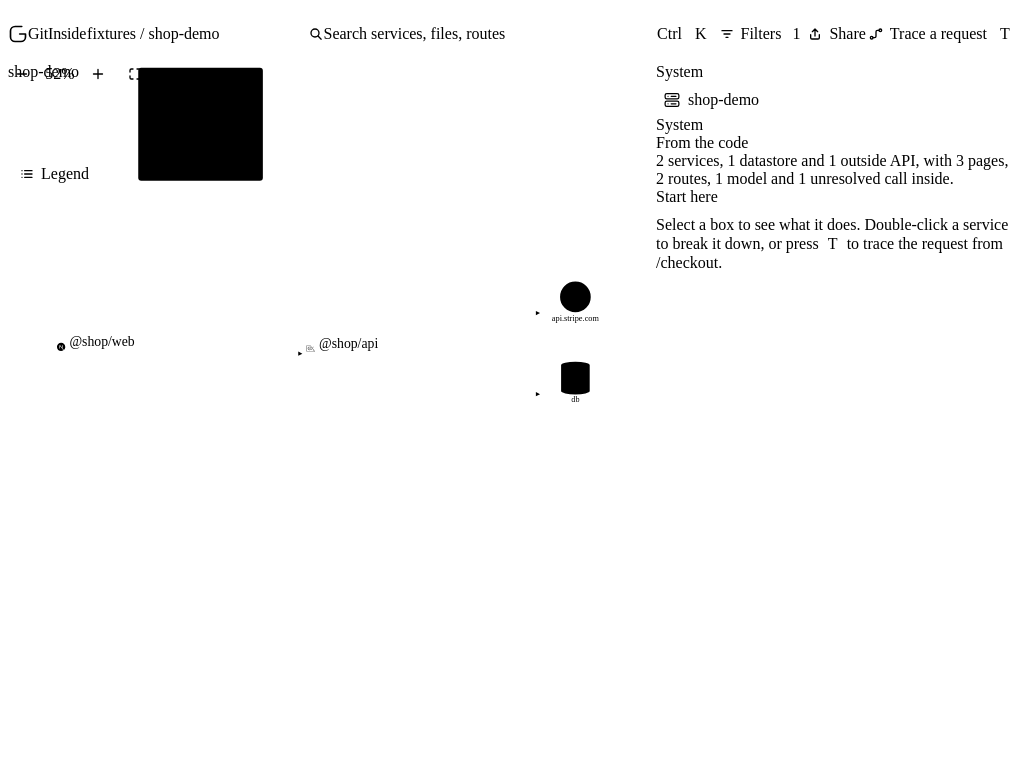
it: Explorer › selects on click, highlights the node's edges, and clears on the canvas
Click the list item with class "gi-node" showing "@shop/api" at [342, 345], box [306, 336, 378, 354]
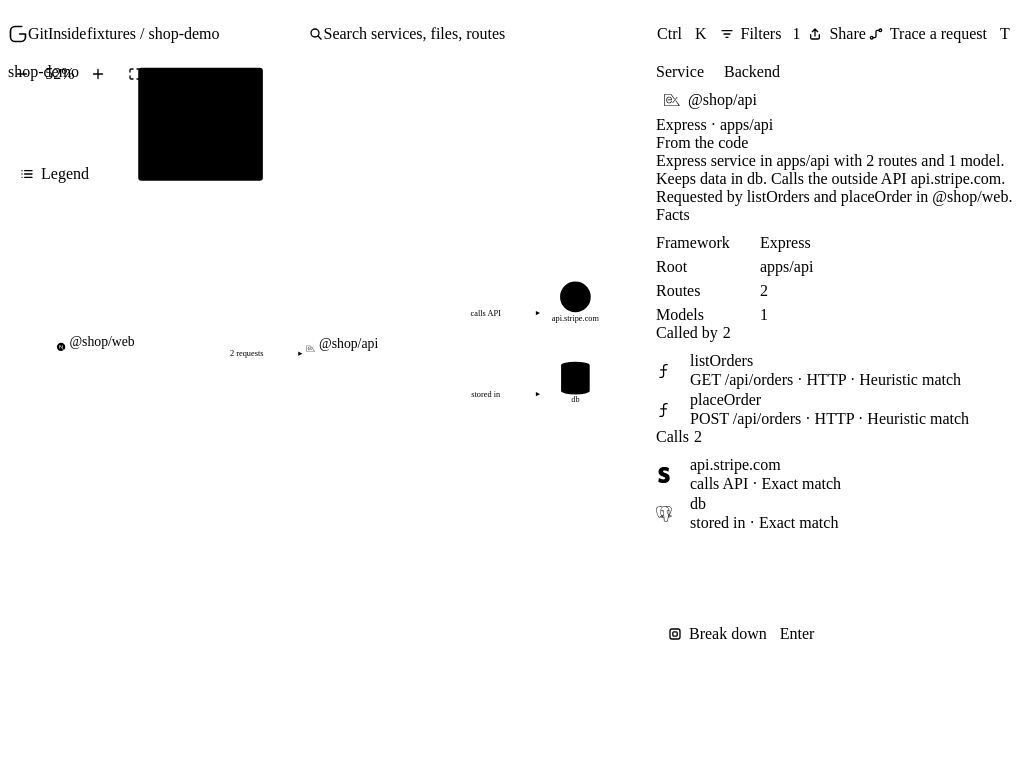
Expected: the heading "@shop/api" is shown, [688, 91, 757, 109]
Expected: the text "Express" is shown, [760, 234, 811, 251]
Click the element named "Diagram" at [332, 613], box [8, 60, 656, 648]
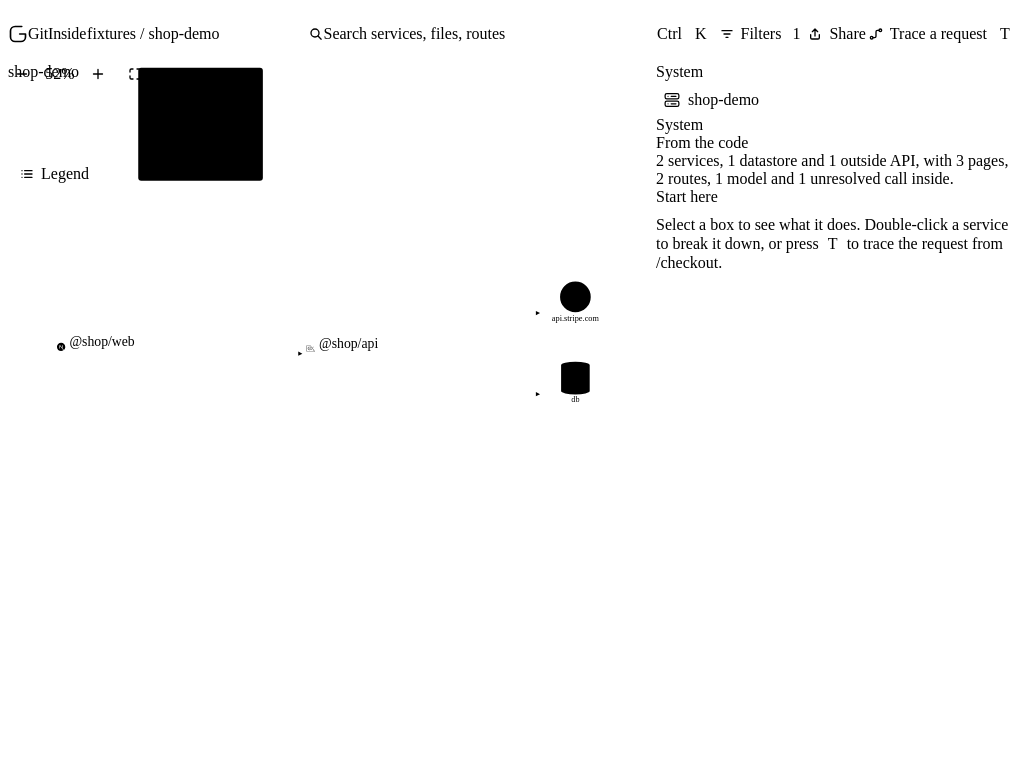
Expected: the heading "shop-demo" is shown, [688, 91, 759, 109]
